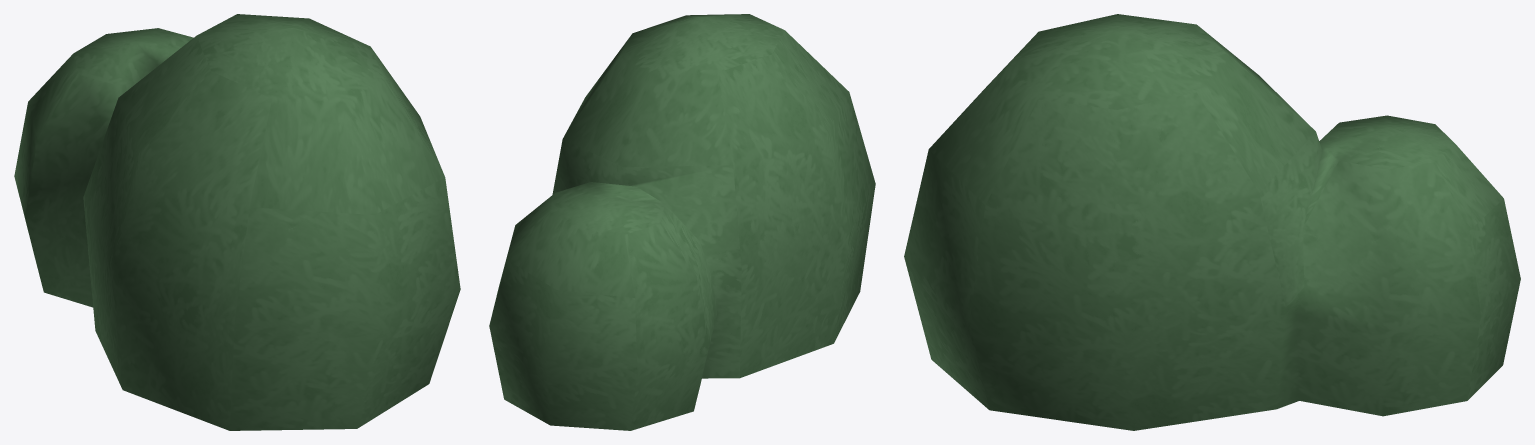
Rendered from Shrub.fbx.
3 renders of one model, left to right at view 1: azimuth 30°, elevation 25°; view 2: azimuth 150°, elevation 25°; view 3: azimuth 270°, elevation 25°, orthographic. The views are drawn at different scales.
Visible parts, largest first — view 1: pSphere3; view 2: pSphere3; view 3: pSphere3.
Boxes of the visible parts, x1,y1,x2,y2 form: pSphere3: (14,14,460,430); pSphere3: (489,14,875,430); pSphere3: (904,14,1520,430).
Bounding box in the file's own units: 120 × 117 × 193.
